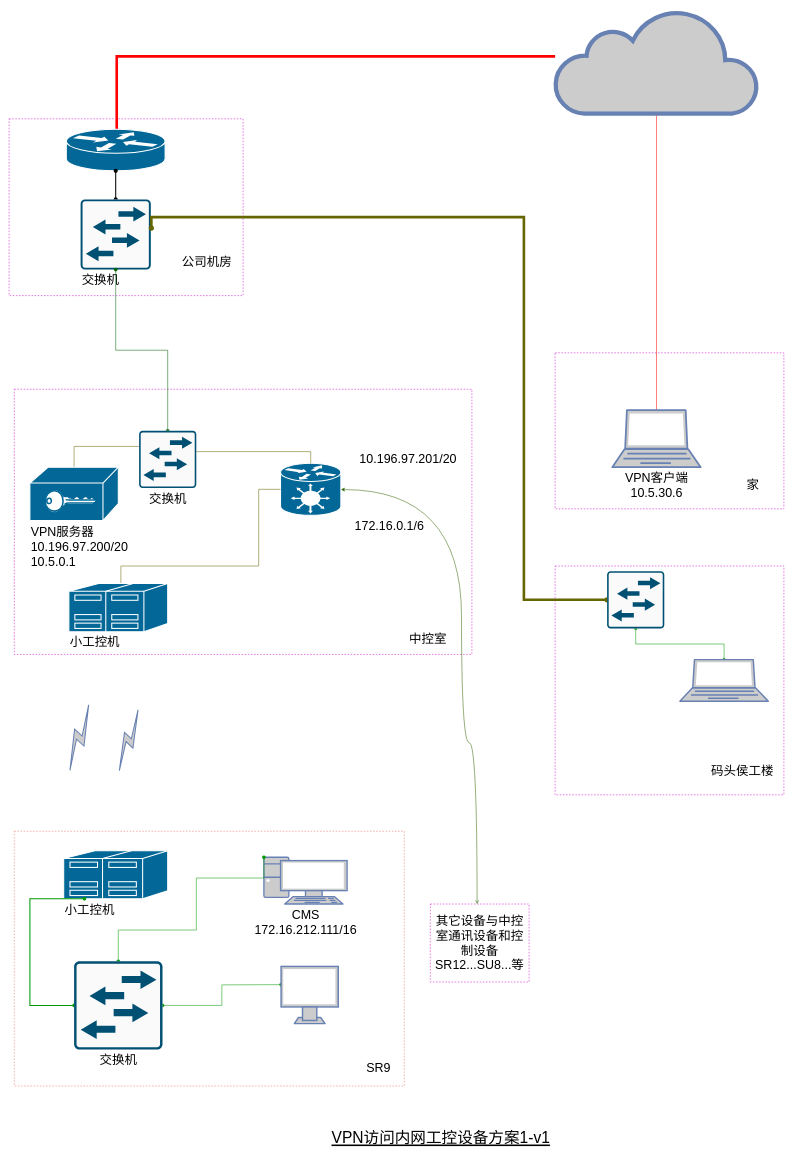
The diagram is 793 pixels wide and 1157 high, and some of its shapes have lost their labels. The shapes that lost their labels are listed below. From the top down, each one's box as (x1, y1, x2, y2) in pixels, then its label:
(554, 9, 758, 114): Internet
(66, 128, 165, 171): 路由器
(280, 463, 341, 516): 内网网关
(679, 659, 769, 701): 诊断PC 10.196.97.247
(280, 966, 339, 1024): HMI 172.16.212.112/16
